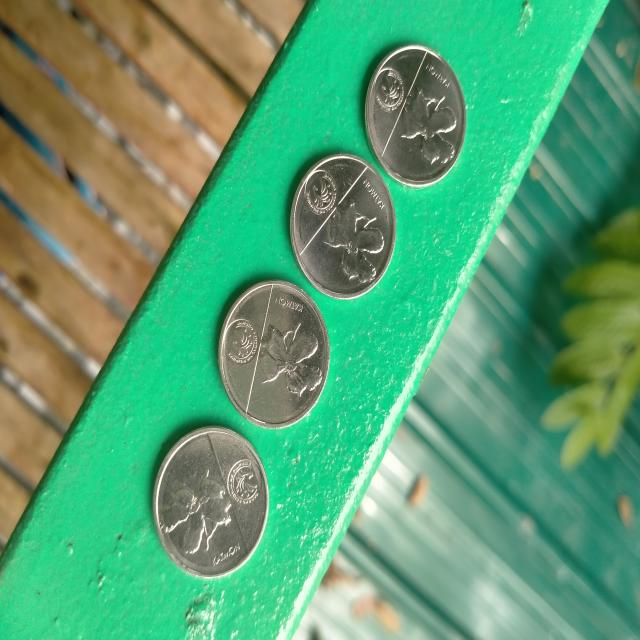25Cent_New_Back: (221, 300, 331, 397), (368, 60, 459, 177), (158, 457, 264, 557)
